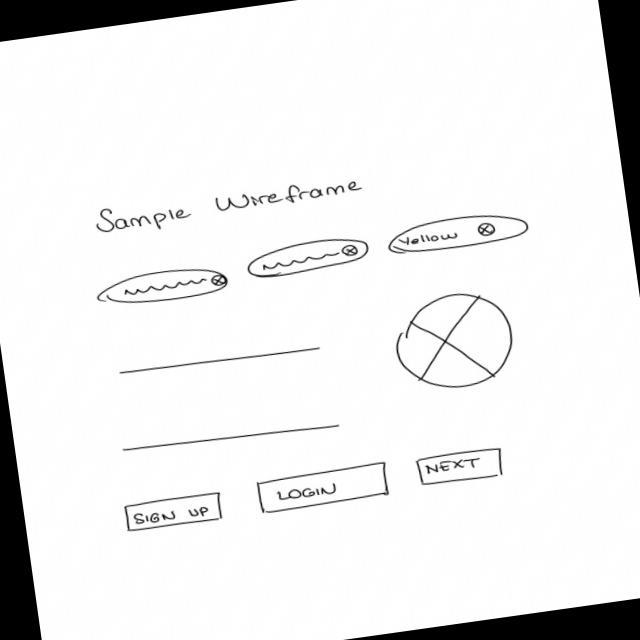button: (257, 461, 394, 516), (123, 491, 227, 535), (416, 447, 507, 488)
image: (387, 286, 520, 398)
label: (94, 172, 367, 241)
